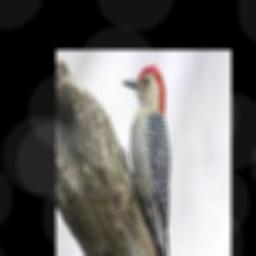Woodpecker: (123, 65, 180, 256)
